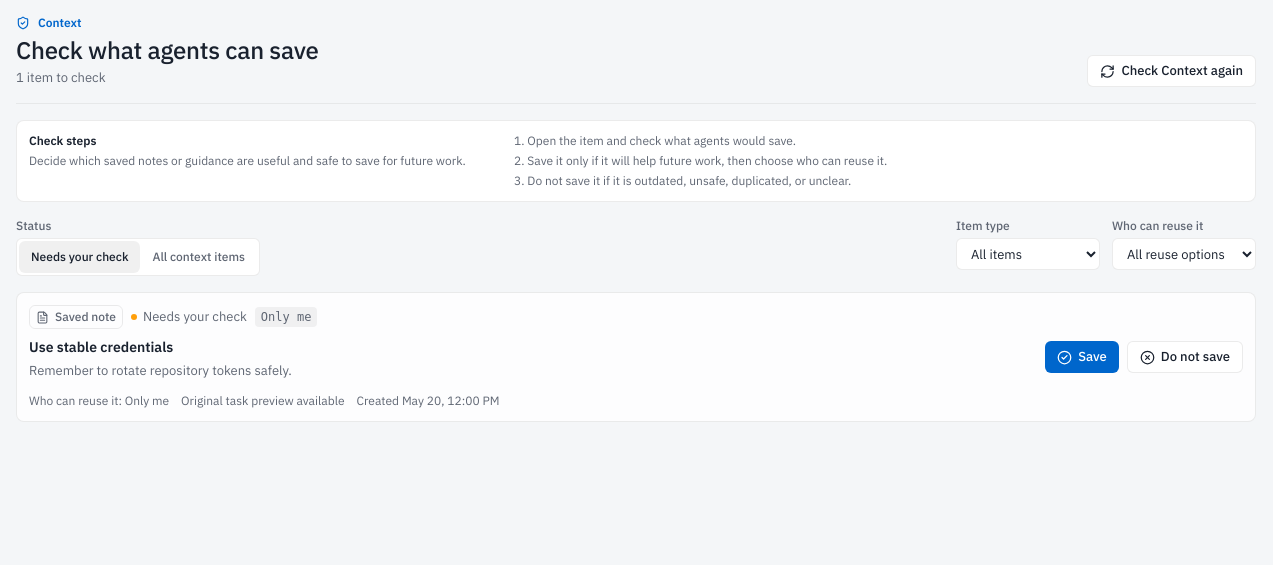
Test: ApprovalQueueView › clears item filters when they hide saved items from a new reviewer
Expected: the heading "Use stable credentials" is shown, [29,338,173,356]
Select "Skills" in the dropdown labelled "Item type" at (1028, 254), box [956,238,1100,270]
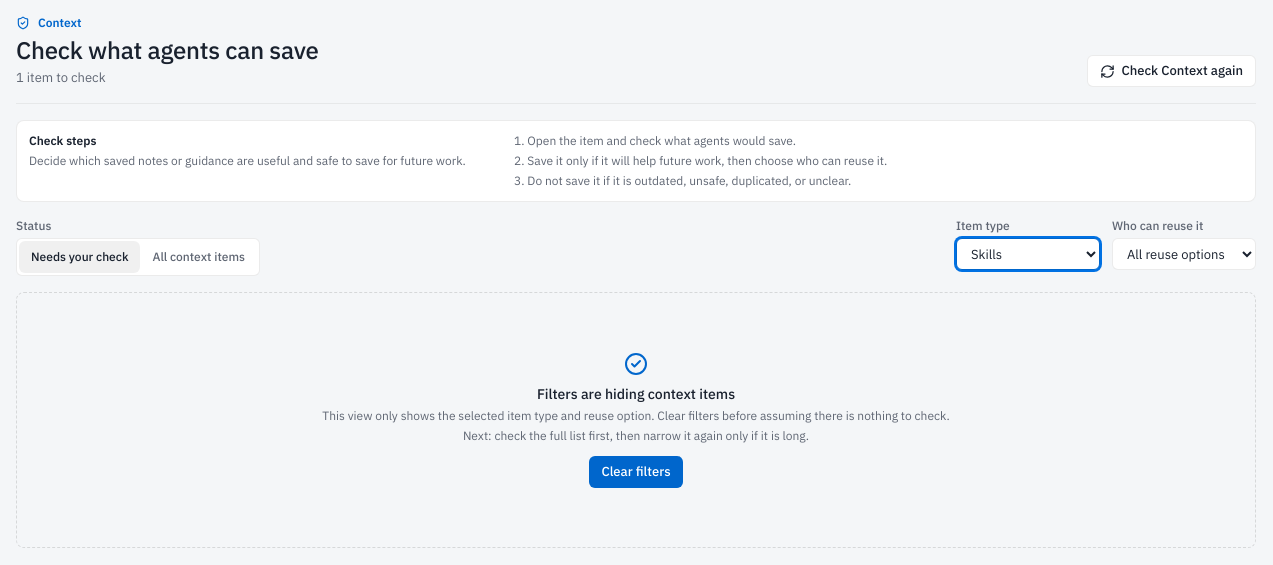
Expected: the text "Filters are hiding context items" is shown, [537,384,735,404]
Expected: the text "clear filters before assuming there is nothing to check" is shown, [322,408,950,423]
Expected: the text "check the full list first" is shown, [463,428,809,443]
Click the button "Clear filters" at (636, 472), box [589,456,682,488]
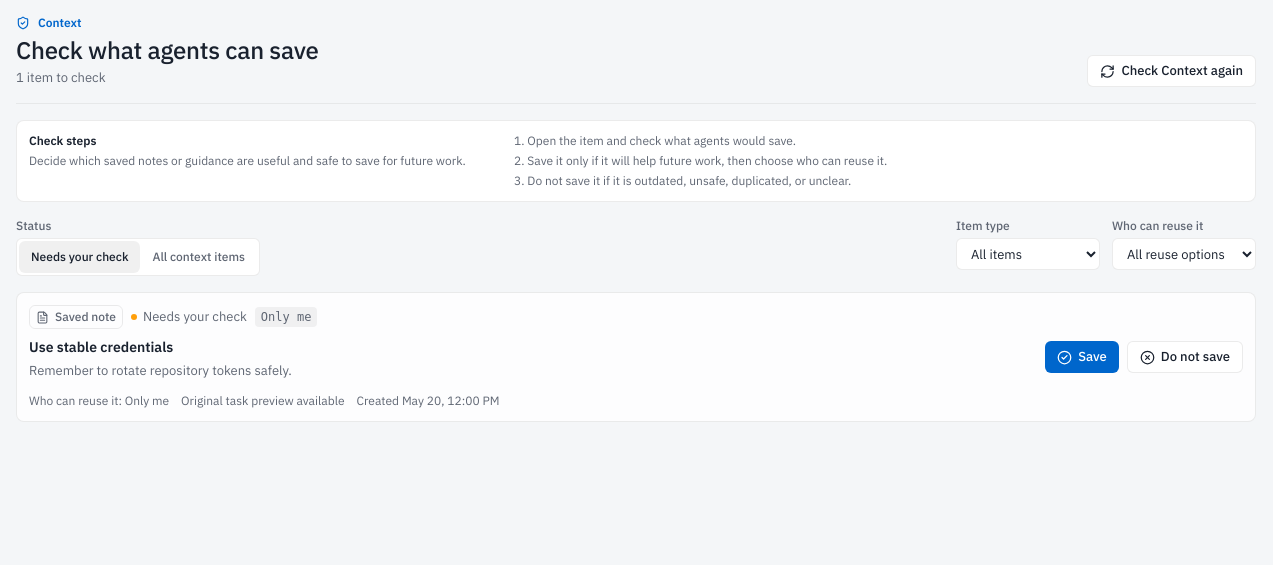
Expected: the heading "Use stable credentials" is shown, [29,338,173,356]
